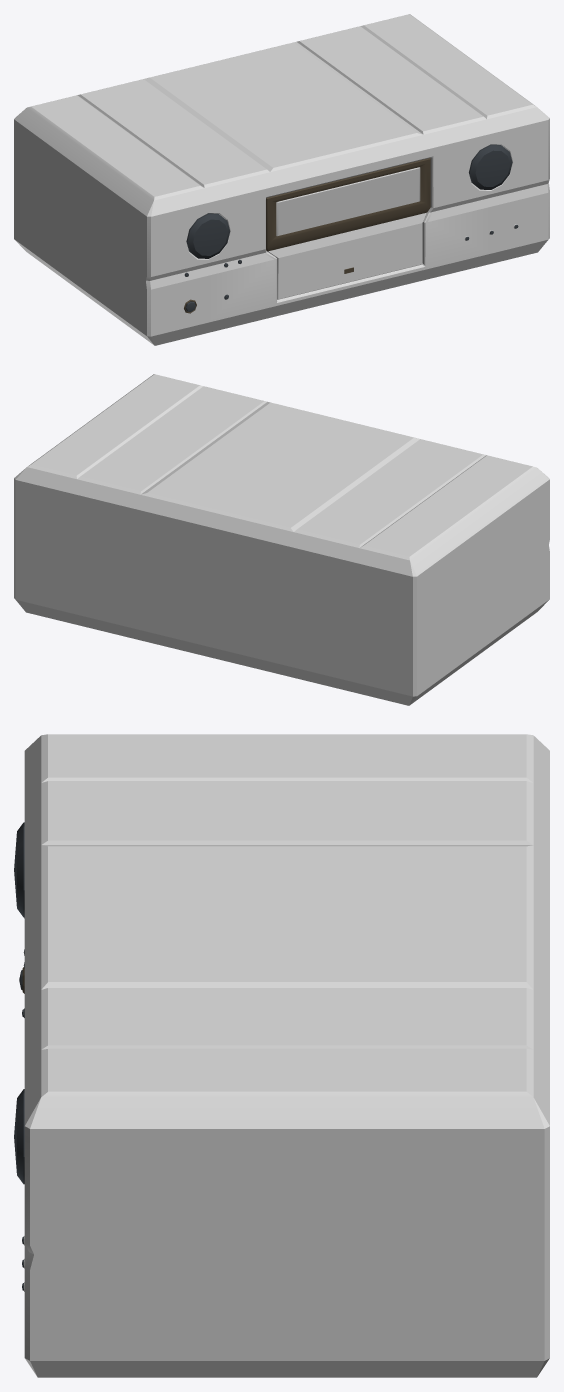
File: TheMeritPuts.FBX
3 views of the same model, one above another, from view 1: azimuth 30°, elevation 25°; view 2: azimuth 150°, elevation 25°; view 3: azimuth 270°, elevation 25° (orthographic). The views are drawn at different scales.
Visible parts, largest first — view 1: TheMeritPuts; view 2: TheMeritPuts; view 3: TheMeritPuts.
Part boxes in pixels (x1,y1,x2,y2): TheMeritPuts: (14,14,549,345); TheMeritPuts: (14,374,549,705); TheMeritPuts: (14,734,549,1377).
Bounding box in the file's own units: 33.61 × 19.98 × 12.16.
